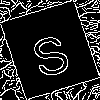S: (25, 25, 75, 79)
